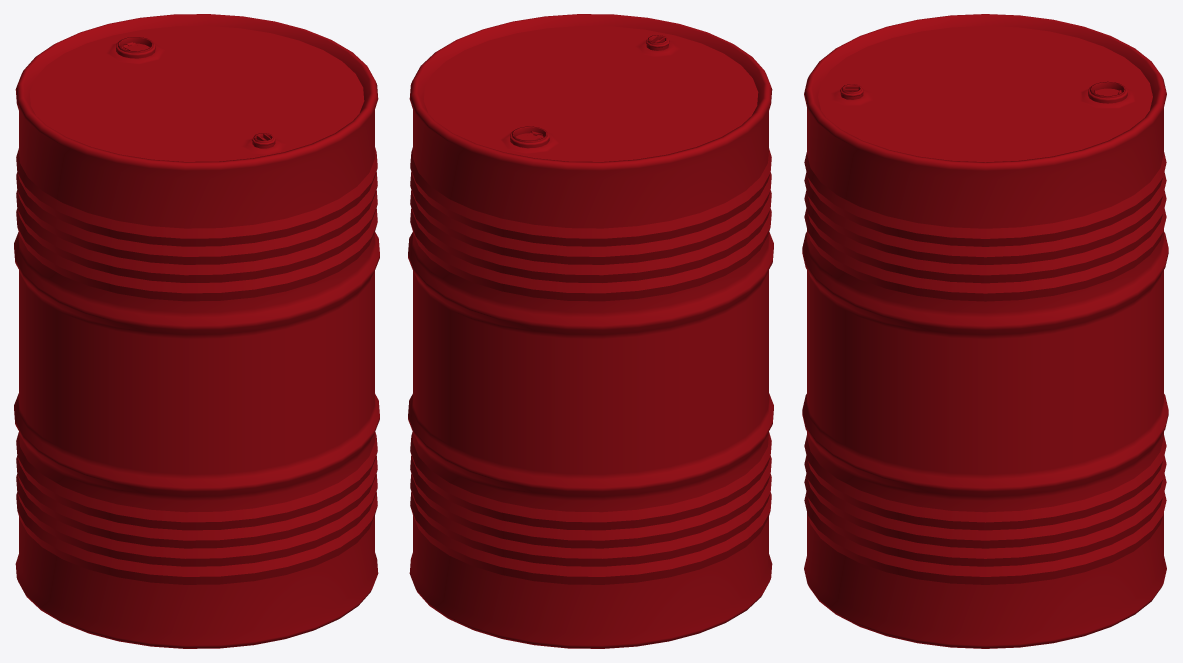
The model's file is SM_fuel_barrel_a_LOD01.fbx.
The picture shows the model from 3 angles, left to right: view 1: azimuth 30°, elevation 25°; view 2: azimuth 150°, elevation 25°; view 3: azimuth 270°, elevation 25°; orthographic projection.
Visible parts, largest first — view 1: SM_fuel_barrel_a_LOD01; view 2: SM_fuel_barrel_a_LOD01; view 3: SM_fuel_barrel_a_LOD01.
Boxes of the visible parts, box(x1,y1,x2,y2) form: SM_fuel_barrel_a_LOD01: box(14, 14, 379, 648); SM_fuel_barrel_a_LOD01: box(408, 14, 773, 648); SM_fuel_barrel_a_LOD01: box(802, 14, 1168, 648).
Size of the model in its own units: 61.62 by 90.17 by 61.62.
